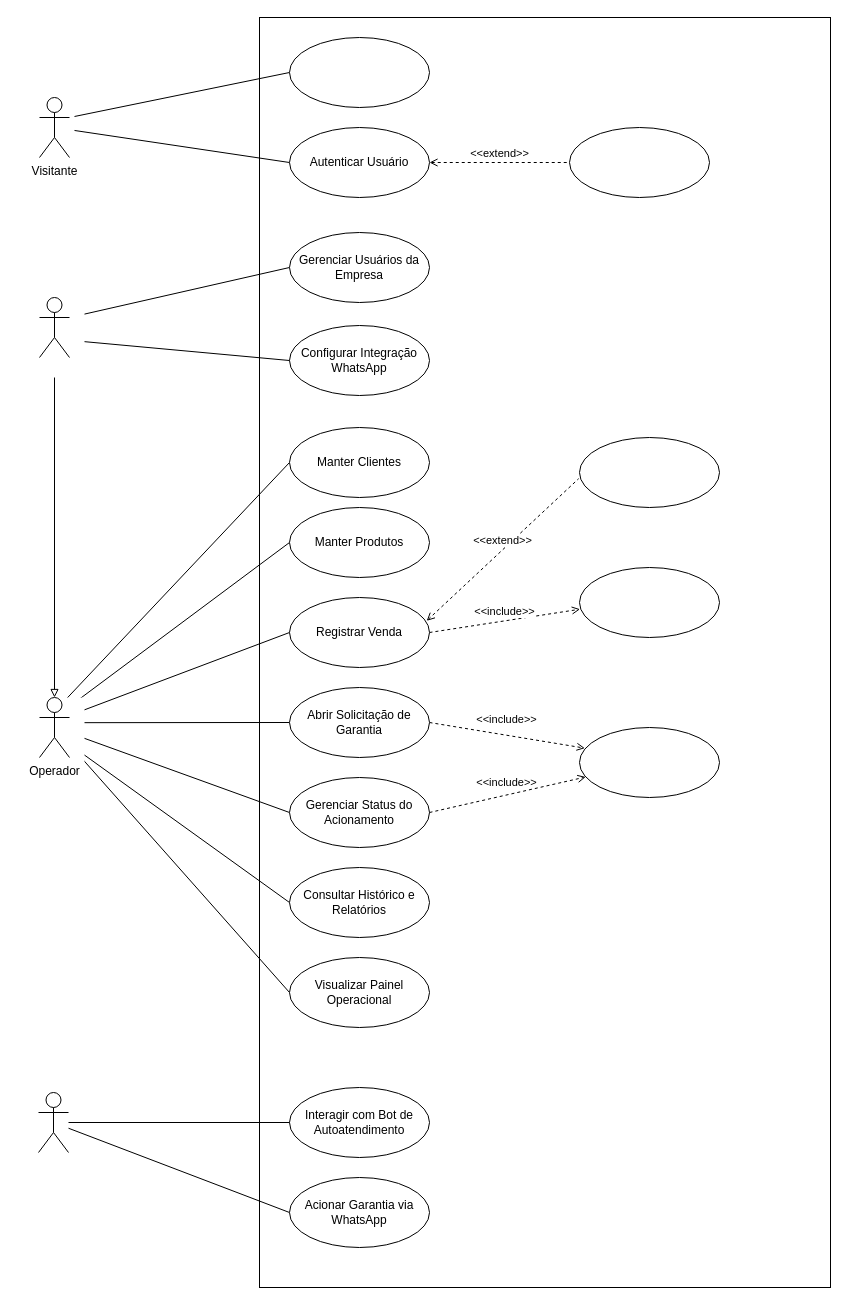
This 848x1305 diagram has some shape labels left out. Here are the shapes that lost their labels. From the top down, the centre of each, then its label:
At [359,72]: "Cadastrar Empresa".
At [639,162]: "Recuperar Senha".
At [54,327]: "Administrador".
At [649,472]: "Vincular Garantia Estendida".
At [649,602]: "Calcular Prazos de Garantia".
At [649,762]: "Enviar Notificação via WhatsApp".
At [53,1122]: "Cliente Final".
